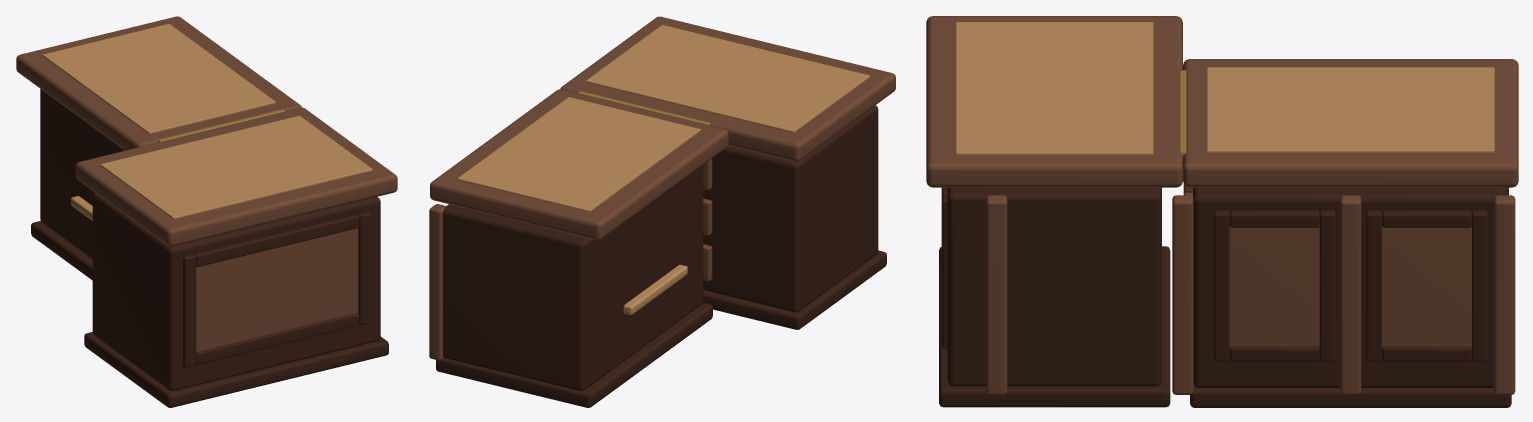
The model's file is pine_hills_front_desk_return_v1.glb.
3 renders of one model, left to right at view 1: azimuth 30°, elevation 25°; view 2: azimuth 150°, elevation 25°; view 3: azimuth 270°, elevation 25°, orthographic. The views are drawn at different scales.
Parts seen in each view (by area): view 1: MESH_ReturnFrontCarcass, MESH_ReturnFrontTopInlay, MESH_ReturnCustomerPanel_Inset, MESH_ReturnLegTopInlay, MESH_ReturnFrontTop, MESH_ReturnLegTop, MESH_ReturnLegCarcass, MESH_ReturnFrontPlinth, MESH_ReturnCustomerPanel_RailTop, MESH_ReturnCustomerPanel_RailBottom, MESH_ReturnCustomerPanel_StileL, MESH_ReturnCustomerPanel_StileR (+2 smaller); view 2: MESH_ReturnLegCarcass, MESH_ReturnFrontCarcass, MESH_ReturnFrontTopInlay, MESH_ReturnLegTopInlay, MESH_ReturnLegTop, MESH_ReturnFrontTop, MESH_ReturnLegPlinth, MESH_ReturnFrontPlinth, MESH_ReturnOuterPilaster_04, MESH_ReturnStaffShelf, MESH_ReturnCornerJoinKey; view 3: MESH_ReturnFrontCarcass, MESH_ReturnFrontTopInlay, MESH_ReturnLegTopInlay, MESH_ReturnLegCarcass, MESH_ReturnLegTop, MESH_ReturnFrontTop, MESH_ReturnOuterPanelA_Inset, MESH_ReturnOuterPanelB_Inset, MESH_ReturnFrontPlinth, MESH_ReturnLegPlinth, MESH_ReturnOuterPilaster_02, MESH_ReturnOuterPilaster_01 (+12 smaller).
Boxes of the visible parts, x1,y1,x2,y2 form: MESH_ReturnFrontCarcass: [92, 192, 380, 390]; MESH_ReturnFrontTopInlay: [100, 115, 372, 219]; MESH_ReturnCustomerPanel_Inset: [196, 228, 358, 351]; MESH_ReturnLegTopInlay: [42, 24, 275, 134]; MESH_ReturnFrontTop: [75, 107, 397, 246]; MESH_ReturnLegTop: [16, 16, 301, 150]; MESH_ReturnLegCarcass: [40, 89, 124, 259]; MESH_ReturnFrontPlinth: [84, 332, 388, 407]; MESH_ReturnCustomerPanel_RailTop: [195, 215, 359, 266]; MESH_ReturnCustomerPanel_RailBottom: [196, 313, 359, 364]; MESH_ReturnCustomerPanel_StileL: [183, 254, 196, 367]; MESH_ReturnCustomerPanel_StileR: [358, 212, 371, 324]; MESH_ReturnLegCarcass: [443, 165, 703, 390]; MESH_ReturnFrontCarcass: [703, 105, 878, 312]; MESH_ReturnFrontTopInlay: [586, 25, 870, 132]; MESH_ReturnLegTopInlay: [457, 97, 700, 212]; MESH_ReturnLegTop: [430, 89, 728, 240]; MESH_ReturnFrontTop: [560, 16, 895, 161]; MESH_ReturnLegPlinth: [436, 302, 712, 407]; MESH_ReturnFrontPlinth: [703, 250, 886, 329]; MESH_ReturnOuterPilaster_04: [429, 204, 446, 360]; MESH_ReturnStaffShelf: [623, 264, 687, 314]; MESH_ReturnCornerJoinKey: [578, 91, 710, 125]; MESH_ReturnFrontCarcass: [947, 187, 1161, 386]; MESH_ReturnFrontTopInlay: [956, 22, 1153, 155]; MESH_ReturnLegTopInlay: [1207, 67, 1494, 152]; MESH_ReturnLegCarcass: [1193, 187, 1508, 387]; MESH_ReturnLegTop: [1183, 59, 1518, 187]; MESH_ReturnFrontTop: [926, 16, 1182, 187]; MESH_ReturnOuterPanelA_Inset: [1229, 225, 1319, 347]; MESH_ReturnOuterPanelB_Inset: [1382, 225, 1471, 347]; MESH_ReturnFrontPlinth: [939, 246, 1170, 407]; MESH_ReturnLegPlinth: [1190, 385, 1511, 407]; MESH_ReturnOuterPilaster_02: [1172, 195, 1193, 394]; MESH_ReturnOuterPilaster_01: [986, 195, 1007, 394].
Size of the model in its own units: 1.28 by 0.974 by 2.1.
